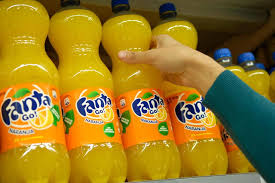fanta: (1, 1, 68, 180), (59, 2, 118, 183), (119, 11, 176, 180), (174, 84, 225, 179)
